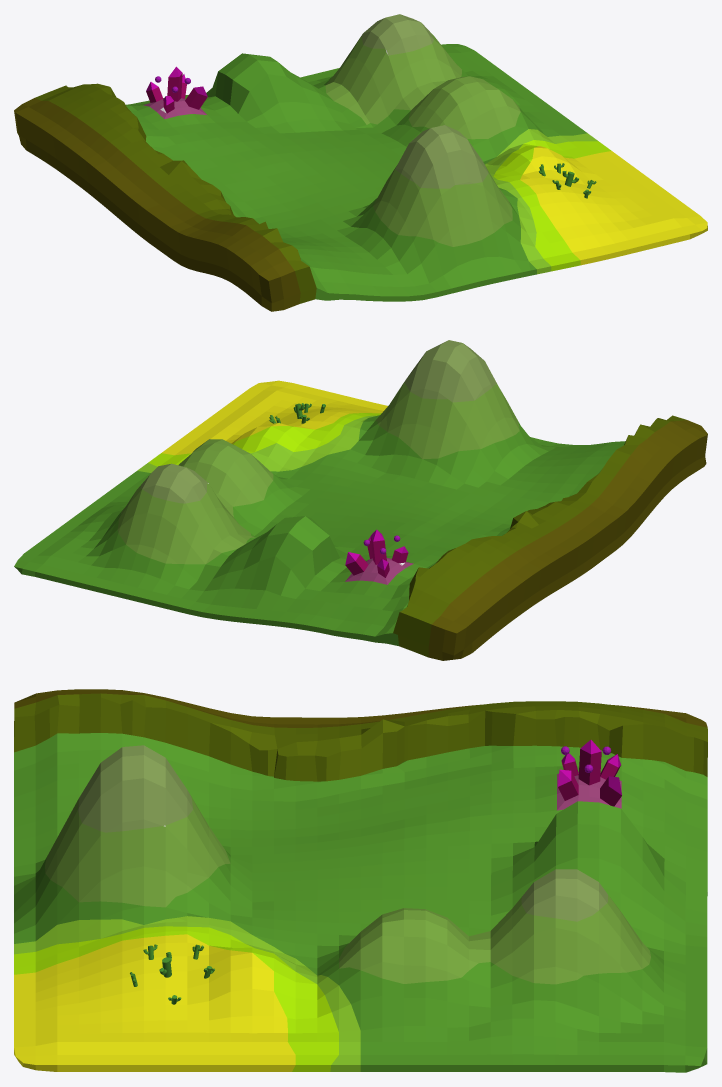
3 renders of one model, top to bottom at view 1: azimuth 30°, elevation 25°; view 2: azimuth 150°, elevation 25°; view 3: azimuth 270°, elevation 25°, orthographic. The views are drawn at different scales.
Visible parts, largest first — view 1: Cube; view 2: Cube; view 3: Cube.
Boxes of the visible parts, left/top/right/bottom form: Cube: left=14, top=14, right=707, bottom=311; Cube: left=14, top=340, right=707, bottom=660; Cube: left=14, top=689, right=707, bottom=1072.
Size of the model in its own units: 3817 by 1030 by 3763.
